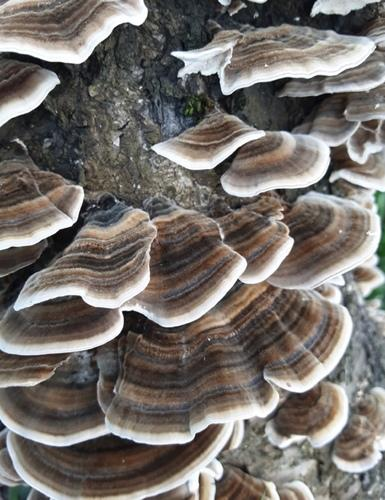poisonous_mushroom: (0, 0, 384, 499), (0, 0, 149, 65)
